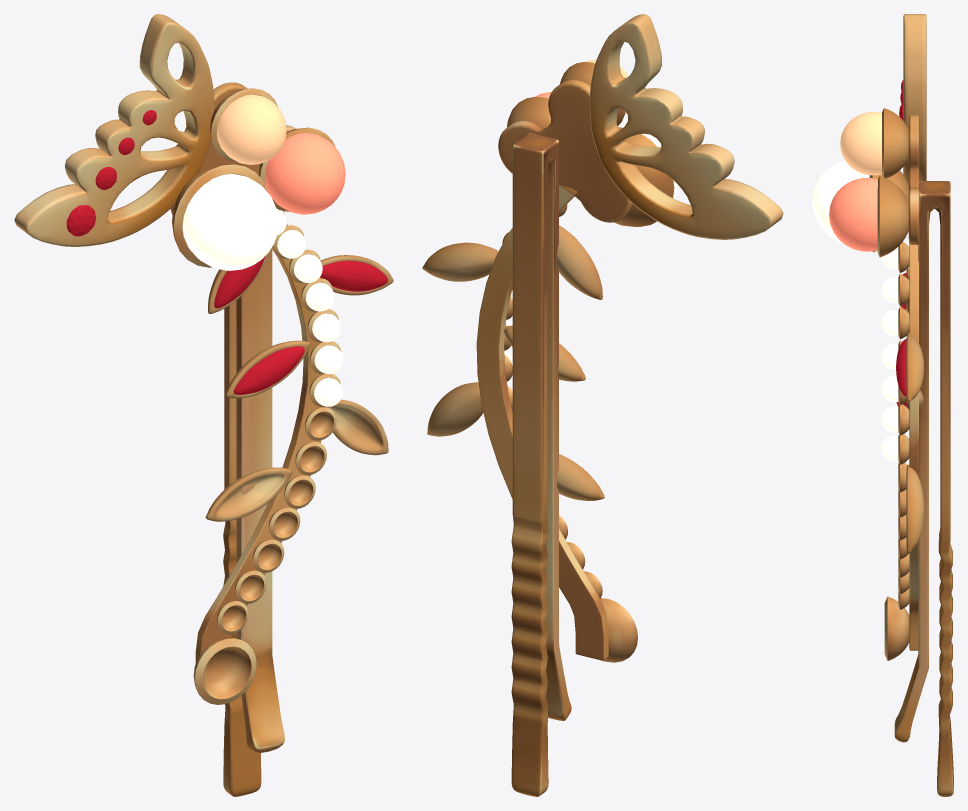
The picture shows the model from 3 angles, left to right: view 1: azimuth 30°, elevation 25°; view 2: azimuth 150°, elevation 25°; view 3: azimuth 270°, elevation 25°; orthographic projection. The views are drawn at different scales.
Visible parts, largest first — view 1: hairakuse; view 2: hairakuse; view 3: hairakuse.
Boxes of the visible parts, <box> form: hairakuse: <box>14,14,393,796</box>; hairakuse: <box>422,14,783,796</box>; hairakuse: <box>812,14,953,796</box>.
Size of the model in its own units: 72.64 by 152 by 26.6.
